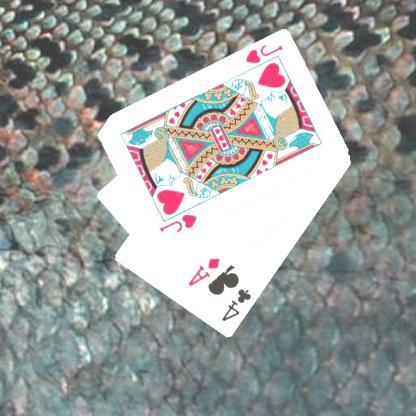4C: (219, 286, 252, 323)
AD: (185, 255, 221, 289)
JH: (156, 211, 198, 235), (242, 42, 284, 65)
